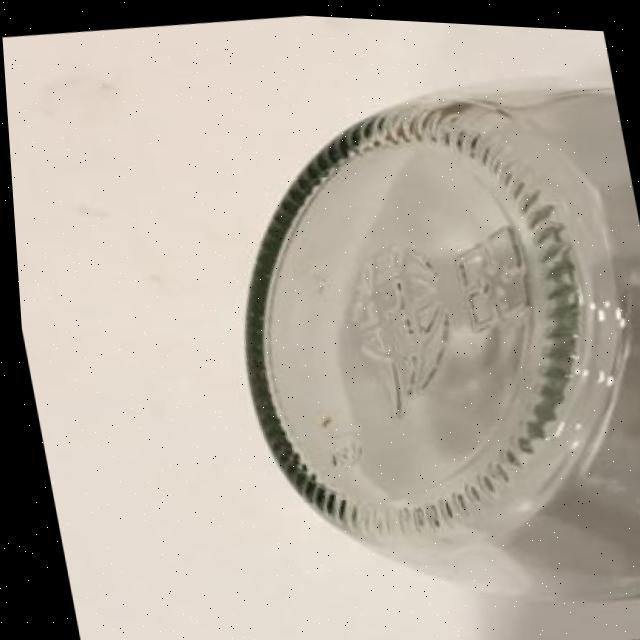glass: (177, 45, 640, 640)
